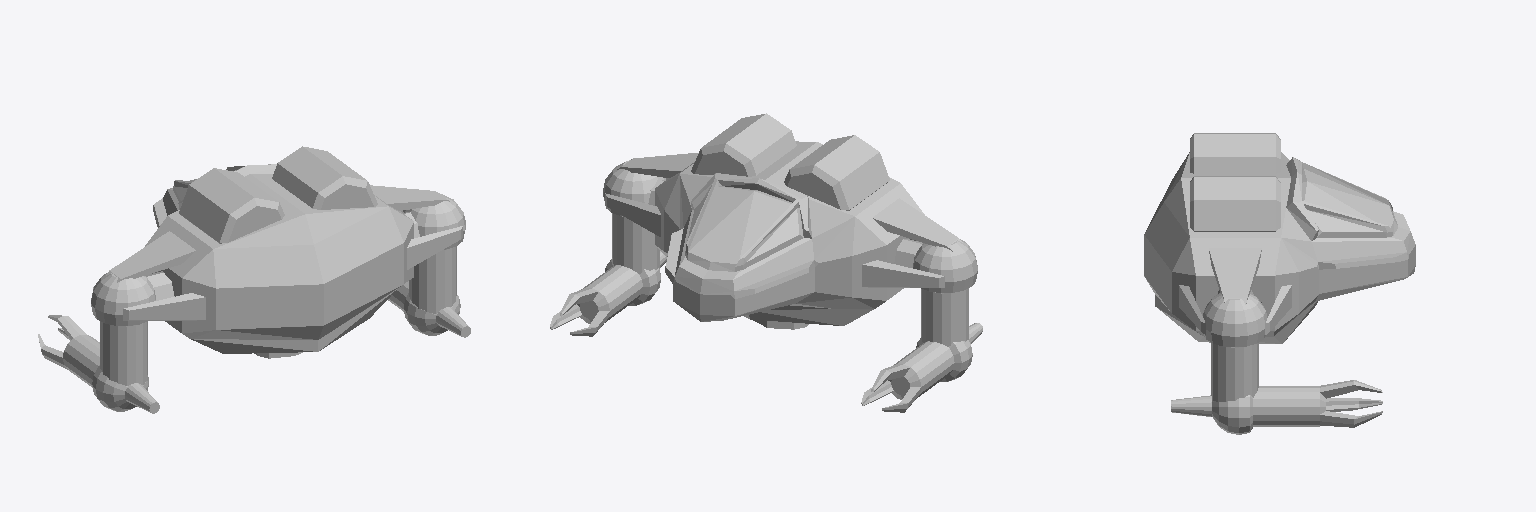
File: main_char_head.obj
The picture shows the model from 3 angles: view 1: azimuth 30°, elevation 25°; view 2: azimuth 150°, elevation 25°; view 3: azimuth 270°, elevation 25°; orthographic projection.
Visible parts, largest first — view 1: Cube.002; view 2: Cube.002; view 3: Cube.002.
Boxes of the visible parts, <box> form: Cube.002: <box>38,146,470,413</box>; Cube.002: <box>550,113,982,412</box>; Cube.002: <box>1144,133,1415,434</box>.
Size of the model in its own units: 3.96 by 2.07 by 2.54.